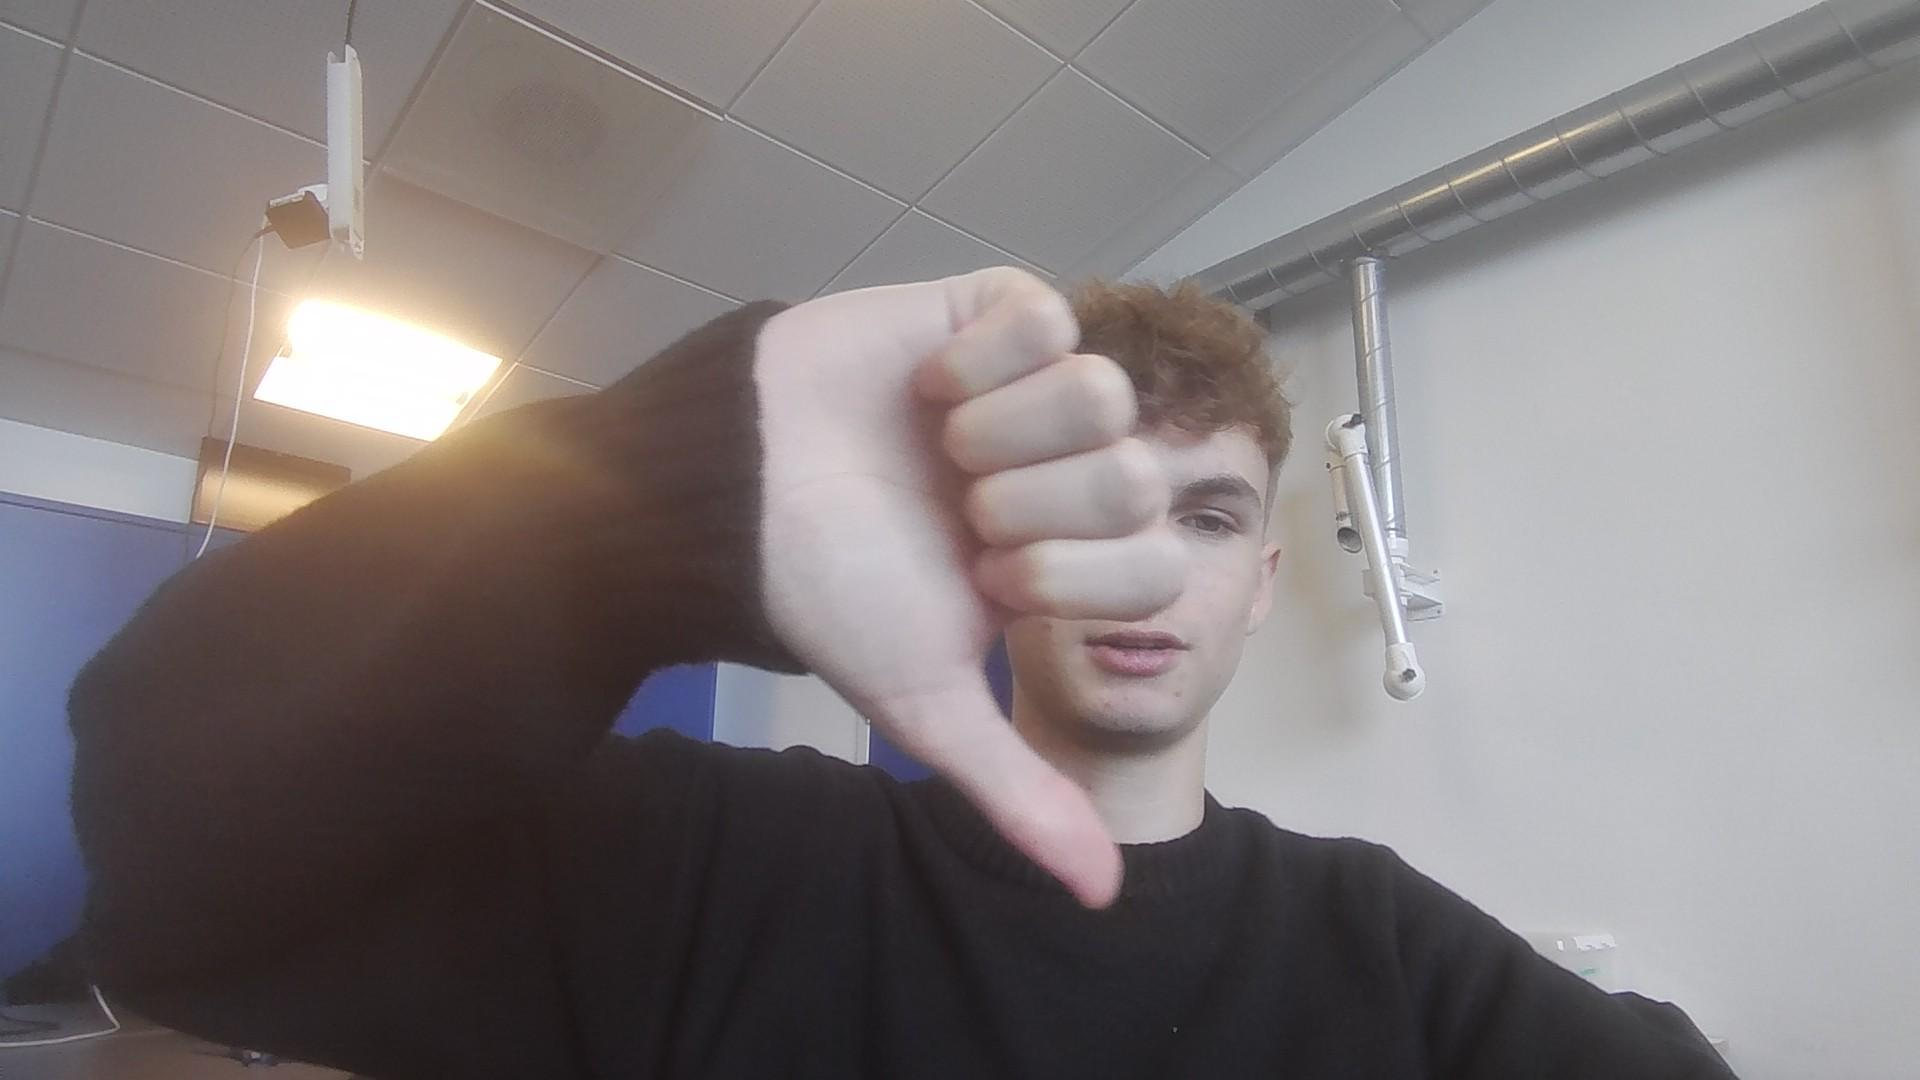thumbs down: (769, 261, 1178, 915)
